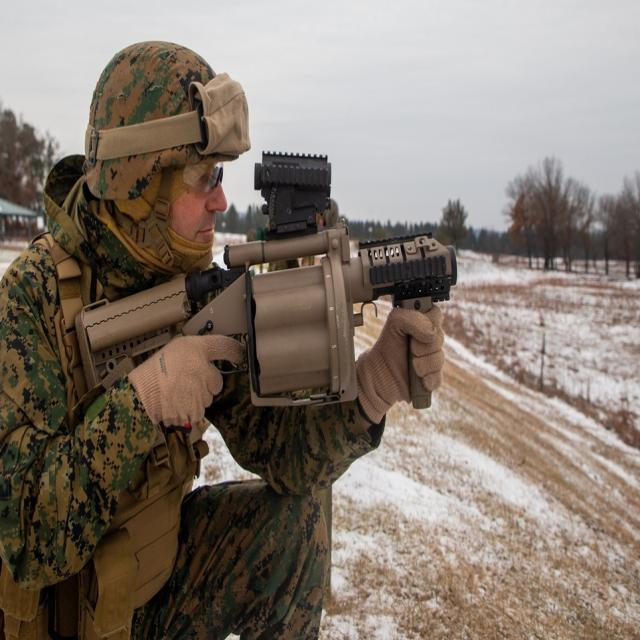Weapon: (78, 154, 457, 404)
